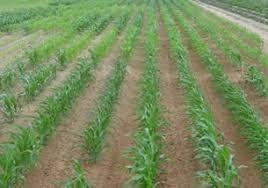field: (0, 0, 267, 186)
